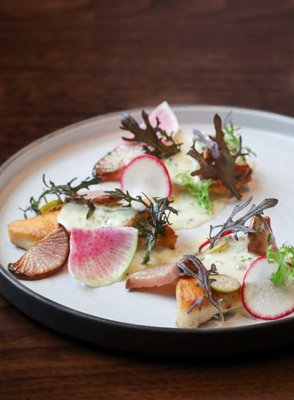steak: (68, 226, 138, 289)
